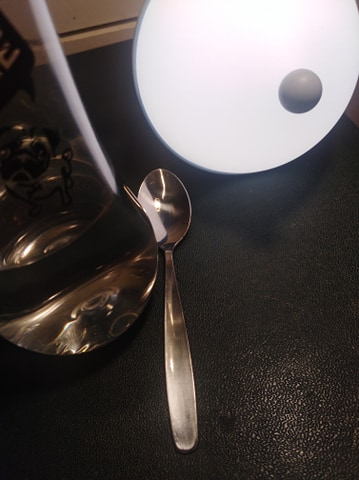Lyzka: (136, 167, 198, 246)
